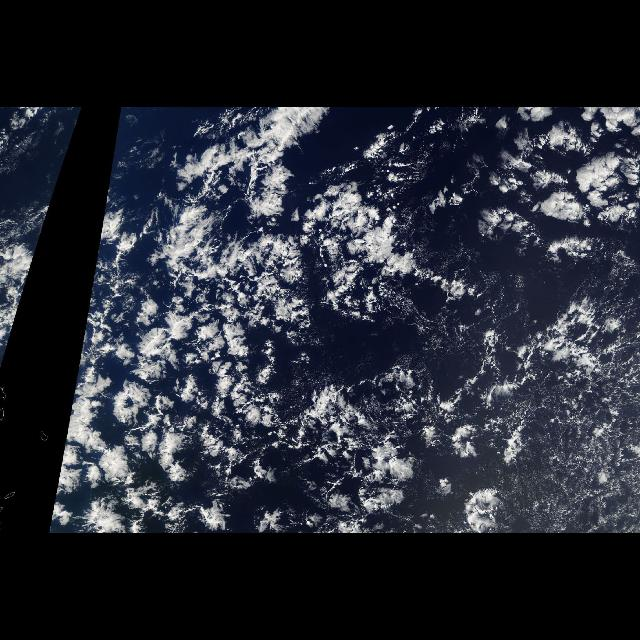Flower: (62, 107, 636, 533)
Gravel: (258, 265, 634, 529)
